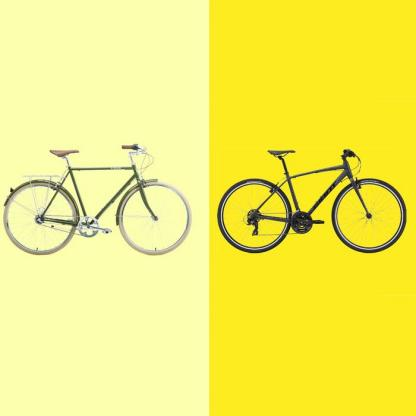Bike: (6, 142, 191, 257), (216, 144, 405, 254)
